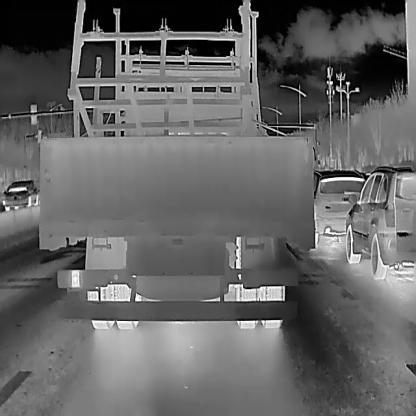car: (34, 53, 315, 330), (343, 163, 416, 281), (305, 166, 367, 249), (1, 177, 37, 210)
